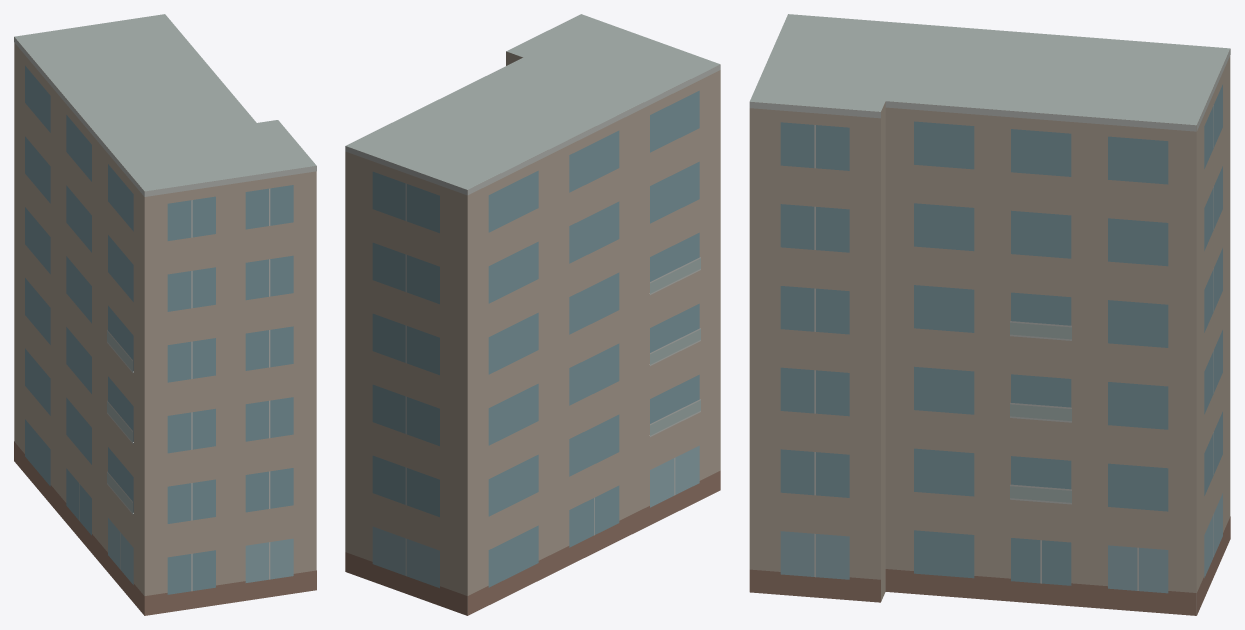
The model's file is survey-upis-32654122.glb.
The picture shows the model from 3 angles, left to right: view 1: azimuth 30°, elevation 25°; view 2: azimuth 150°, elevation 25°; view 3: azimuth 270°, elevation 25°; orthographic projection. The views are drawn at different scales.
Parts seen in each view (by area): view 1: survey-upis-32654122.tmp; view 2: survey-upis-32654122.tmp; view 3: survey-upis-32654122.tmp.
Part boxes in pixels (<box>): survey-upis-32654122.tmp: <box>14,14,316,615</box>; survey-upis-32654122.tmp: <box>345,14,720,615</box>; survey-upis-32654122.tmp: <box>749,14,1230,615</box>.
Size of the model in its own units: 9.11 by 18.7 by 16.62.
